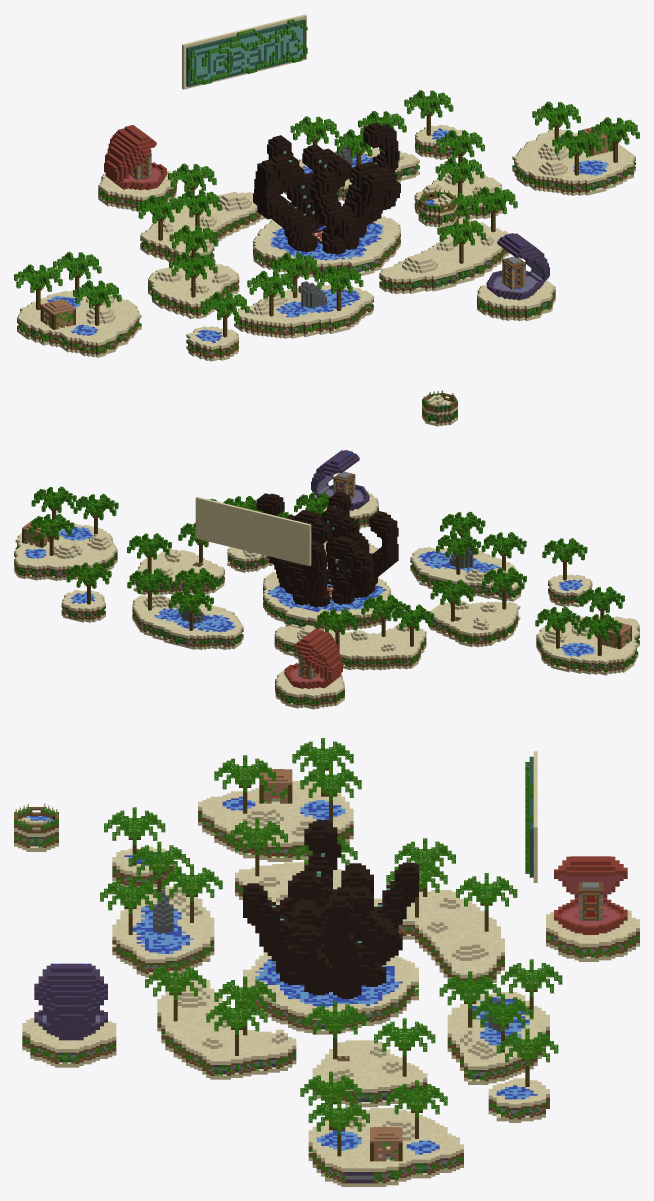
The model's file is minecraft.obj.
3 views of the same model, one above another, from view 1: azimuth 30°, elevation 25°; view 2: azimuth 150°, elevation 25°; view 3: azimuth 270°, elevation 25° (orthographic). The views are drawn at different scales.
Bounding box in the file's own units: 224 × 55 × 153.
